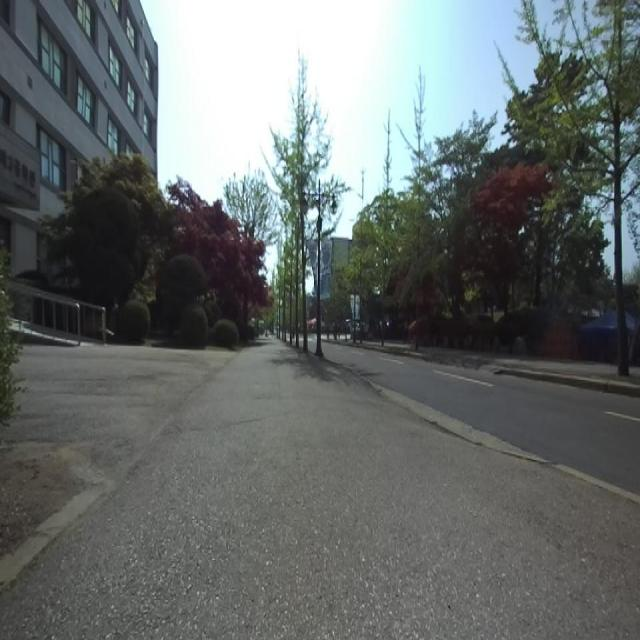sidewalk: (0, 341, 640, 639), (0, 344, 238, 484)
